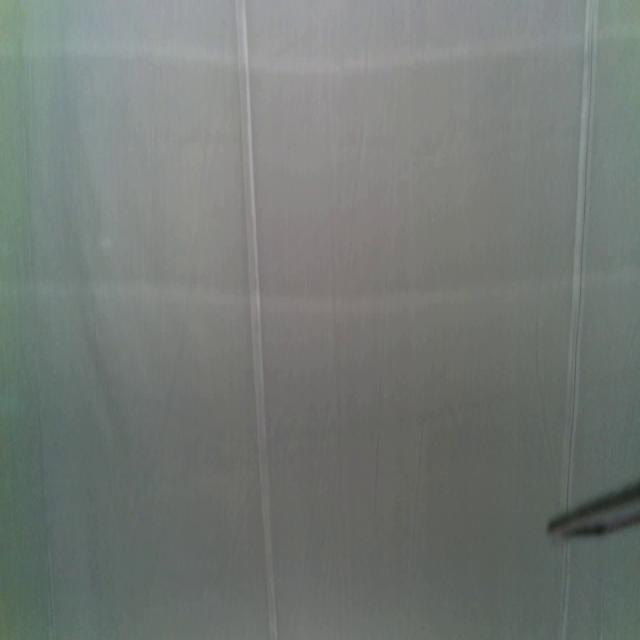color bleeding: (0, 40, 640, 305)
crease: (235, 0, 277, 640), (564, 0, 599, 498), (558, 549, 572, 638)
